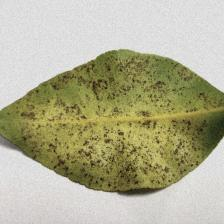canker: (52, 81, 194, 178)
